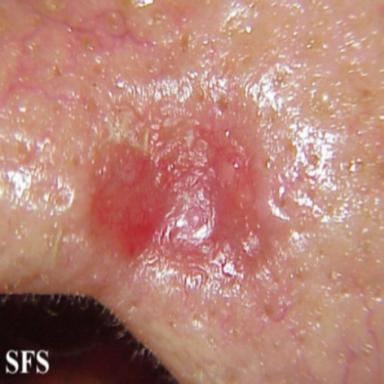basal-cell-carcinoma: (85, 116, 269, 281)
